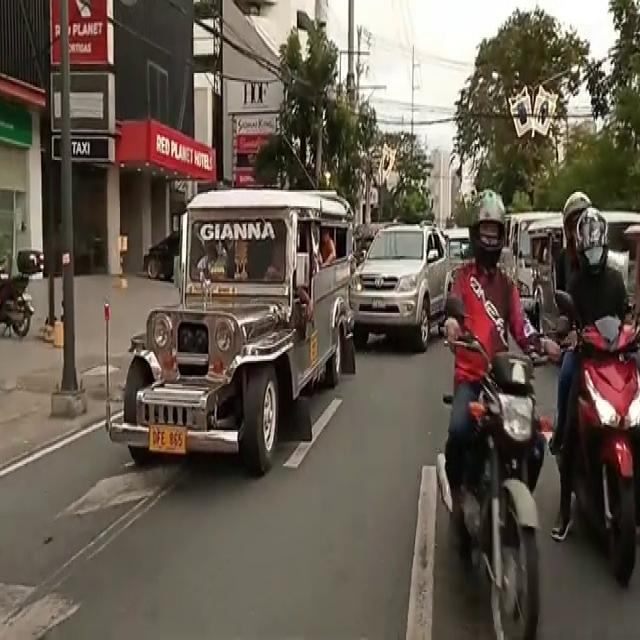car: (364, 221, 451, 347)
jeepney: (150, 192, 353, 448)
motorcycle: (452, 222, 528, 612), (556, 227, 632, 566)
